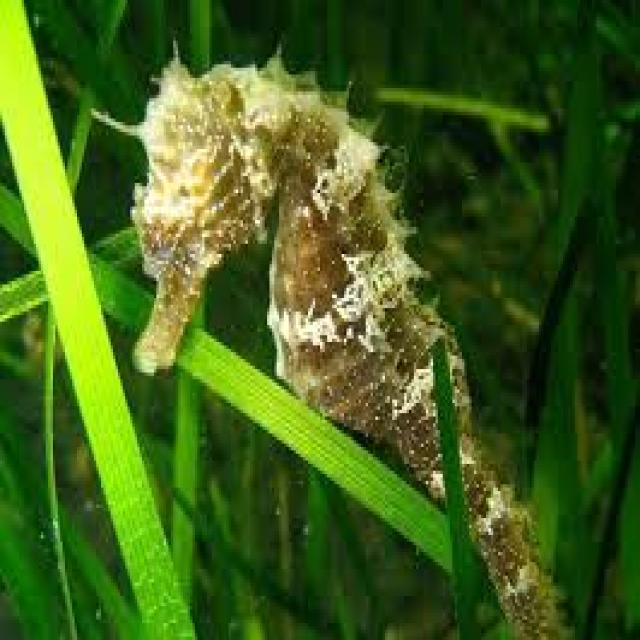SeaHorse: (120, 51, 570, 640)
